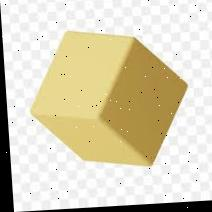cube: (26, 28, 190, 171)
